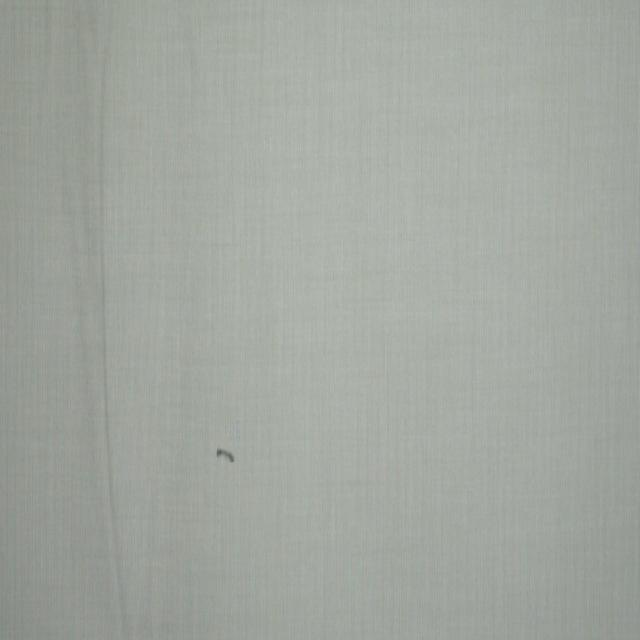dirty: (217, 448, 235, 462)
